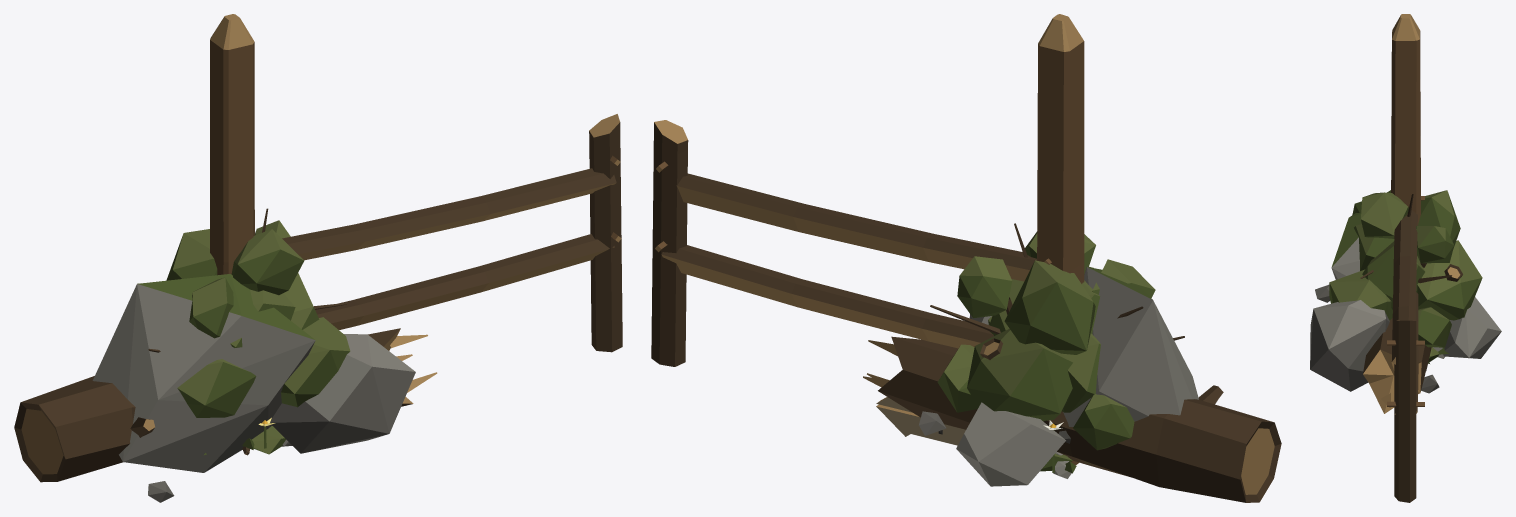
Rendered from props.glb.
3 renders of one model, left to right at view 1: azimuth 30°, elevation 25°; view 2: azimuth 150°, elevation 25°; view 3: azimuth 270°, elevation 25°, orthographic. The views are drawn at different scales.
Visible parts, largest first — view 1: rock-group_Boulders, fence-rail_Section, fallen-log_Log, signpost_Post, shrub-b_LeafLumps, shrub-a_LeafLumps, flower-patch_Leaves; view 2: fence-rail_Section, fallen-log_Log, rock-group_Boulders, shrub-b_LeafLumps, signpost_Post, shrub-a_LeafLumps, signpost-arm_Board; view 3: rock-group_Boulders, fence-rail_Section, shrub-a_LeafLumps, shrub-b_LeafLumps, signpost_Post, fallen-log_Log.
Boxes of the visible parts, x1,y1,x2,y2 form: rock-group_Boulders: (92, 274, 415, 502); fence-rail_Section: (240, 114, 622, 352); fallen-log_Log: (14, 328, 437, 482); signpost_Post: (210, 14, 254, 275); shrub-b_LeafLumps: (166, 220, 319, 338); shrub-a_LeafLumps: (177, 289, 350, 417); flower-patch_Leaves: (204, 426, 285, 454); fence-rail_Section: (651, 120, 1051, 366); fallen-log_Log: (863, 336, 1281, 502); rock-group_Boulders: (919, 267, 1198, 486); shrub-b_LeafLumps: (957, 231, 1155, 412); signpost_Post: (1037, 14, 1084, 465); shrub-a_LeafLumps: (937, 266, 1134, 450); signpost-arm_Board: (876, 397, 965, 445); rock-group_Boulders: (1310, 190, 1501, 393); fence-rail_Section: (1387, 196, 1424, 502); shrub-a_LeafLumps: (1329, 223, 1482, 347); shrub-b_LeafLumps: (1352, 190, 1460, 309); signpost_Post: (1391, 14, 1420, 224); fallen-log_Log: (1363, 264, 1462, 413).
Bounding box in the file's own units: 3.12 × 2.22 × 1.11.
